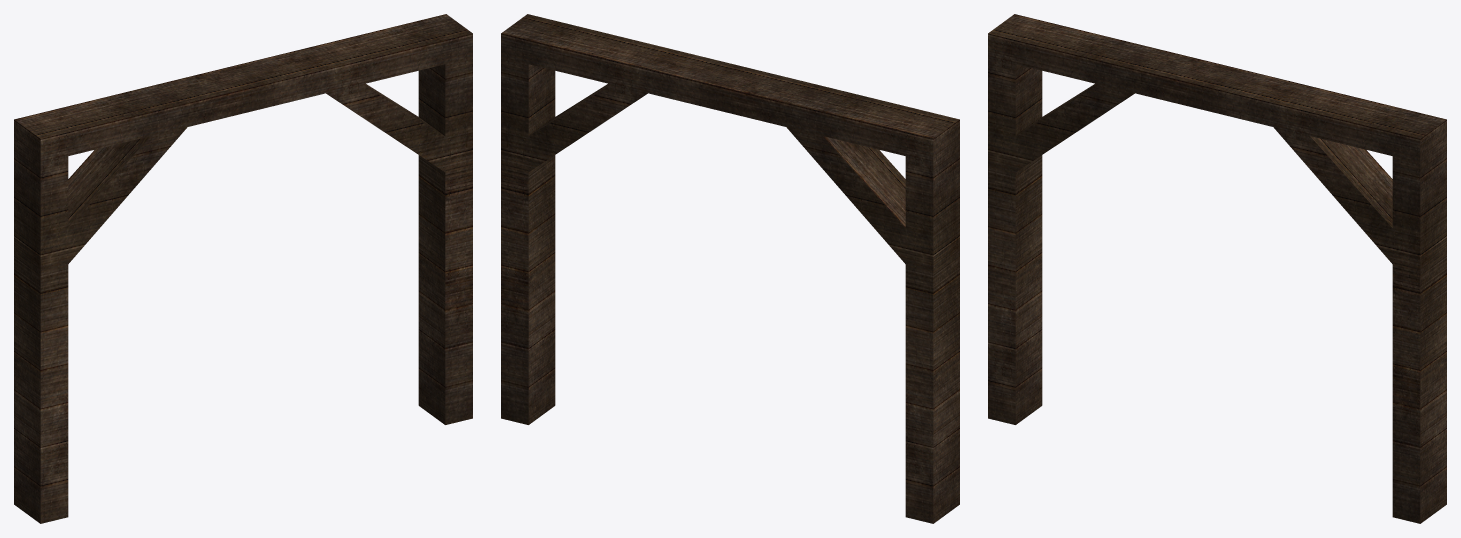
The model's file is glass-cave-post.obj.
3 renders of one model, left to right at view 1: azimuth 30°, elevation 25°; view 2: azimuth 150°, elevation 25°; view 3: azimuth 330°, elevation 25°, orthographic.
Visible parts, largest first — view 1: entity0_brush1, entity0_brush4, entity0_brush0, entity0_brush2, entity0_brush3; view 2: entity0_brush1, entity0_brush4, entity0_brush0, entity0_brush2, entity0_brush3; view 3: entity0_brush4, entity0_brush1, entity0_brush0, entity0_brush3, entity0_brush2.
Part boxes in pixels (x1=…): entity0_brush1: x1=14, y1=113, x2=68, y2=523; entity0_brush4: x1=418, y1=14, x2=472, y2=424; entity0_brush0: x1=42, y1=20, x2=445, y2=155; entity0_brush2: x1=68, y1=127, x2=187, y2=263; entity0_brush3: x1=326, y1=83, x2=445, y2=171; entity0_brush1: x1=905, y1=113, x2=959, y2=523; entity0_brush4: x1=501, y1=14, x2=555, y2=424; entity0_brush0: x1=528, y1=20, x2=931, y2=155; entity0_brush2: x1=786, y1=127, x2=905, y2=263; entity0_brush3: x1=528, y1=83, x2=647, y2=171; entity0_brush4: x1=1392, y1=113, x2=1446, y2=523; entity0_brush1: x1=988, y1=14, x2=1042, y2=424; entity0_brush0: x1=1015, y1=20, x2=1418, y2=155; entity0_brush3: x1=1273, y1=127, x2=1392, y2=263; entity0_brush2: x1=1015, y1=83, x2=1134, y2=171.
Size of the model in its own units: 188 by 160 by 20.
Materials: 1 (1 with a texture image).
